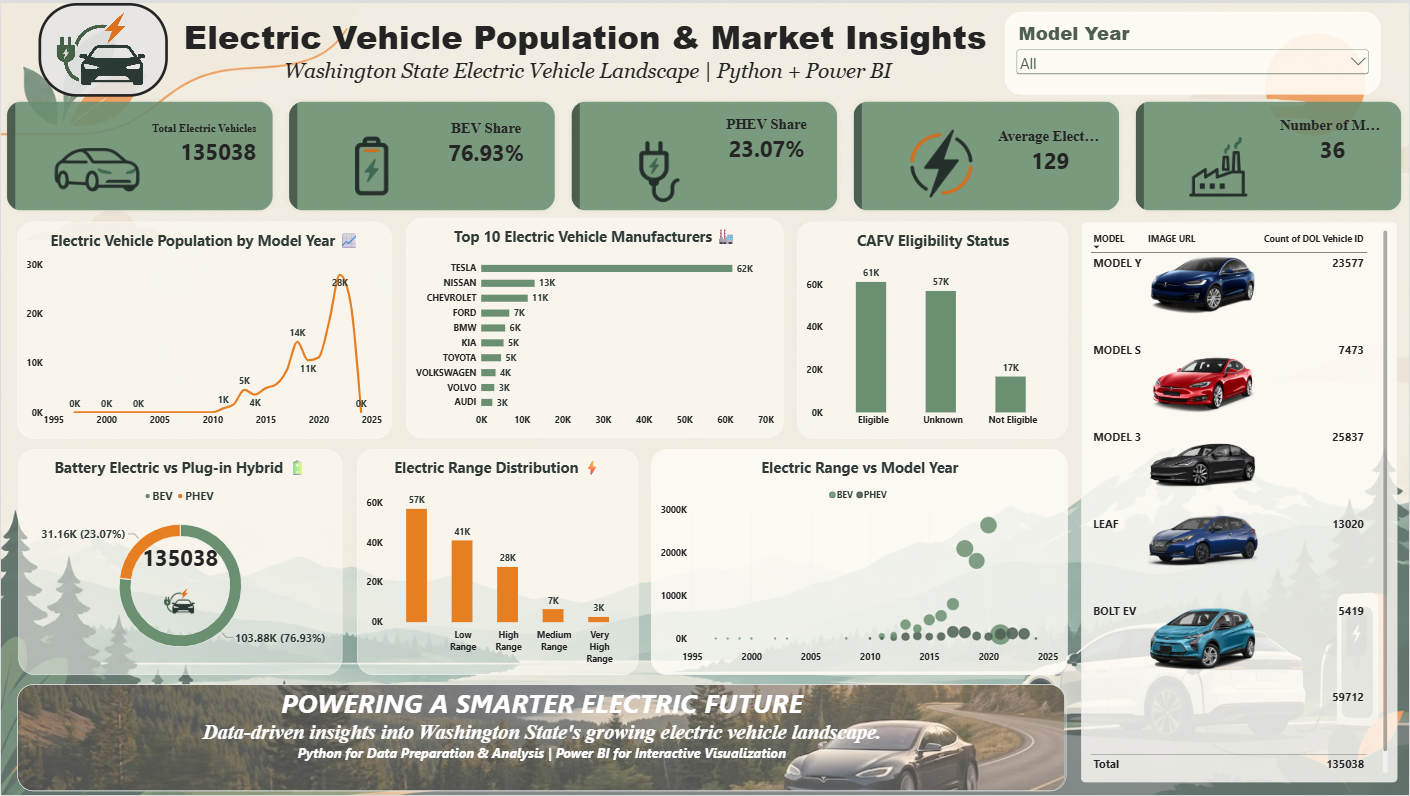

What the dashboard file says about the page in this screenshot:
{"tool":"powerbi","page":{"name":"Page 1","canvas":[2560,1440],"ordinal":0},"visuals":[{"type":"image","box":[30.6,1238.9,1905.6,194.4],"z":0},{"type":"image","box":[67.5,0,235,170],"z":1000},{"type":"textbox","box":[252.5,17.5,1620,152.5],"z":2000},{"type":"cardVisual","fields":{"Data":["EV_Population_Cleaned.Total Electric Vehicles","EV_Population_Cleaned.BEV Share","EV_Population_Cleaned.PHEV Share","EV_Population_Cleaned.Average Electric Range","EV_Population_Cleaned.Number of Manufacturers"]},"box":[0,167.5,2560,220],"z":3000},{"type":"lineChart","title":"Electric Vehicle Population by Model Year 📈","fields":{"Y":["CountNonNull(EV_Population_Cleaned.DOL Vehicle ID)"],"Category":["EV_Population_Cleaned.Model Year"]},"box":[30.6,397.2,680.6,394.4],"z":4000},{"type":"clusteredBarChart","title":"Top 10 Electric Vehicle Manufacturers 🏭","fields":{"Category":["EV_Population_Cleaned.Make"],"Y":["CountNonNull(EV_Population_Cleaned.DOL Vehicle ID)"]},"box":[736.1,391.7,686.1,400],"z":5000},{"type":"donutChart","title":"Battery Electric vs Plug-in Hybrid 🔋","fields":{"Y":["CountNonNull(EV_Population_Cleaned.DOL Vehicle ID)"],"Category":["EV_Population_Cleaned.EV Type"]},"box":[30.6,811.1,597.2,388.9],"z":6000},{"type":"clusteredColumnChart","title":"Electric Range Distribution ⚡","fields":{"Category":["EV_Population_Cleaned.Range Category"],"Y":["CountNonNull(EV_Population_Cleaned.DOL Vehicle ID)"]},"box":[647.2,811.1,511.1,388.9],"z":7000},{"type":"tableEx","fields":{"Values":["EV Model Images.MODEL","EV Model Images.IMAGE URL","CountNonNull(EV_Population_Cleaned.DOL Vehicle ID)"]},"box":[1963.9,397.2,575,1019.4],"z":8000},{"type":"clusteredColumnChart","title":"CAFV Eligibility Status","fields":{"Category":["EV_Population_Cleaned.CAFV Status"],"Y":["CountNonNull(EV_Population_Cleaned.DOL Vehicle ID)"]},"box":[1447.2,397.2,491.7,394.4],"z":9000},{"type":"scatterChart","title":"Electric Range vs Model Year","fields":{"X":["EV_Population_Cleaned.Model Year"],"Y":["Sum(EV_Population_Cleaned.Electric Range Clean)"],"Size":["CountNonNull(EV_Population_Cleaned.DOL Vehicle ID)"],"Series":["EV_Population_Cleaned.EV Type"]},"box":[1183.3,811.1,755.6,388.9],"z":10000},{"type":"slicer","fields":{"Values":["EV_Population_Cleaned.Model Year"]},"box":[1825,16.7,683.3,150],"z":11000},{"type":"textbox","box":[30.6,1238.9,1908.3,194.4],"z":12000}]}

Visuals, with their boxes in screenshot pixels (x1, y1, x2, y2), scaled from the page's 2560x1440 canvas onto the 1410x796 screenshot:
image: [17, 685, 1066, 792]
image: [37, 0, 167, 94]
textbox: [139, 10, 1031, 94]
cardVisual - EV_Population_Cleaned.Total Electric Vehicles x EV_Population_Cleaned.BEV Share: [0, 93, 1409, 214]
"Electric Vehicle Population by Model Year 📈" lineChart: [17, 220, 392, 438]
"Top 10 Electric Vehicle Manufacturers 🏭" clusteredBarChart: [405, 217, 783, 438]
"Battery Electric vs Plug-in Hybrid 🔋" donutChart: [17, 448, 346, 663]
"Electric Range Distribution ⚡" clusteredColumnChart: [356, 448, 638, 663]
tableEx - EV Model Images.MODEL x EV Model Images.IMAGE URL: [1082, 220, 1398, 783]
"CAFV Eligibility Status" clusteredColumnChart: [797, 220, 1068, 438]
"Electric Range vs Model Year" scatterChart: [652, 448, 1068, 663]
slicer - EV_Population_Cleaned.Model Year: [1005, 9, 1382, 92]
textbox: [17, 685, 1068, 792]
